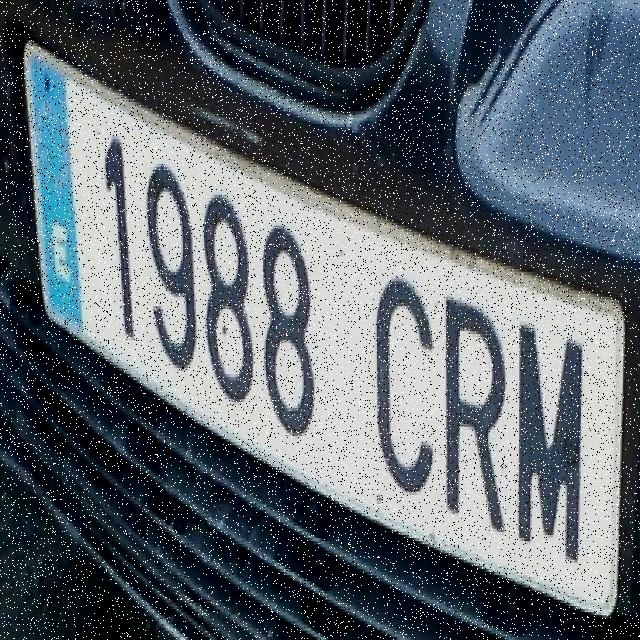licenseplate: (14, 22, 622, 624)
